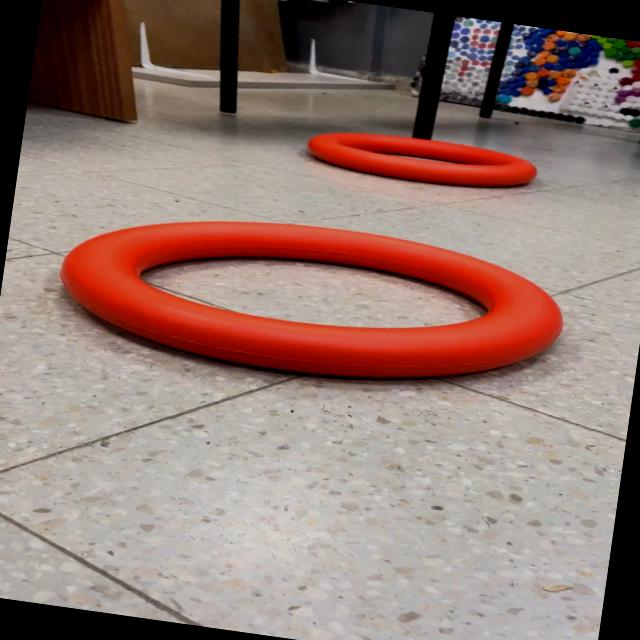note: (47, 189, 575, 411), (300, 120, 542, 200)
